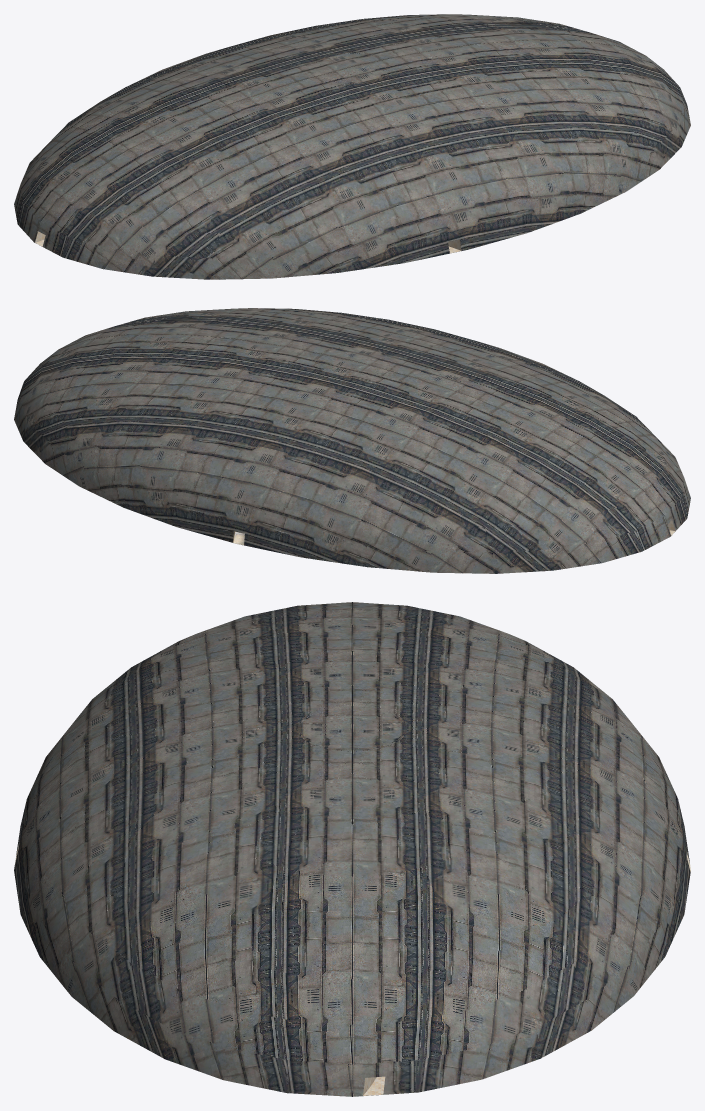
Rendered from home_type1a.FBX.
The picture shows the model from 3 angles, top to bottom: view 1: azimuth 30°, elevation 25°; view 2: azimuth 150°, elevation 25°; view 3: azimuth 270°, elevation 25°; orthographic projection. The views are drawn at different scales.
Parts seen in each view (by area): view 1: Sphere006; view 2: Sphere006; view 3: Sphere006.
Part boxes in pixels (x1=…): Sphere006: x1=14, y1=14, x2=690, y2=279; Sphere006: x1=14, y1=308, x2=690, y2=573; Sphere006: x1=14, y1=602, x2=690, y2=1096.
Bounding box in the file's own units: 1181 × 175 × 745.
6 materials, 6 textured.
